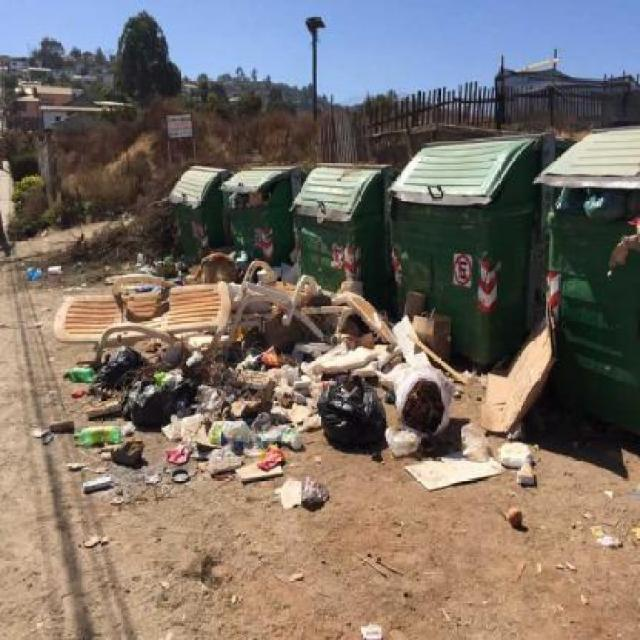garbage: (35, 245, 586, 536), (550, 186, 639, 272), (225, 191, 276, 202)
